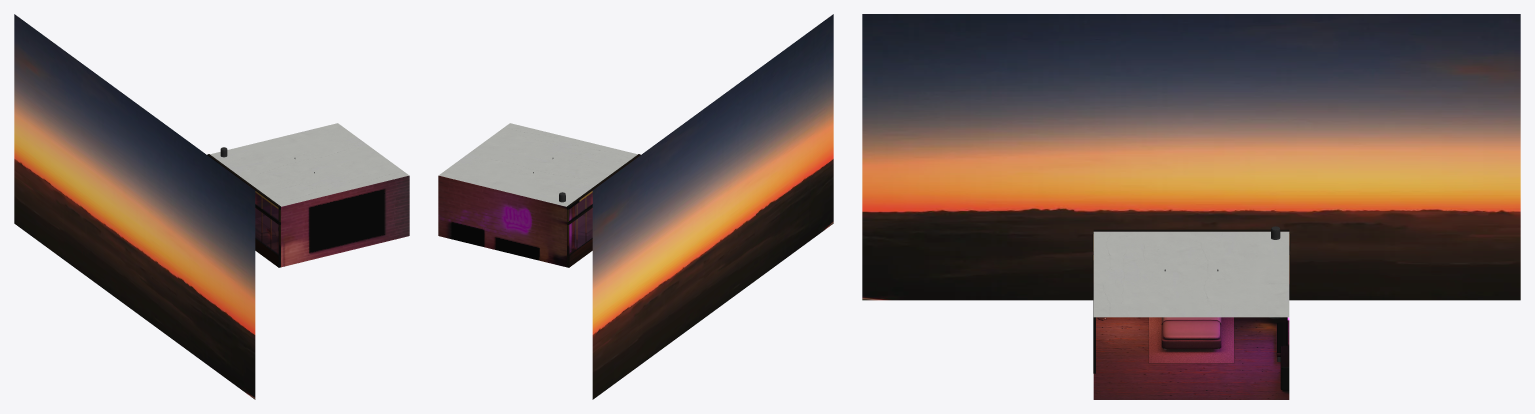
File: room-bedroom-modern.glb
The picture shows the model from 3 angles, left to right: view 1: azimuth 30°, elevation 25°; view 2: azimuth 150°, elevation 25°; view 3: azimuth 270°, elevation 25°; orthographic projection. The views are drawn at different scales.
Parts seen in each view (by area): view 1: Backdrop_Backdrop_0, Modern_Bedroom_Ceiling_0, Modern_Bedroom_Walls_0, Modern_Bedroom_WindowFrame_0, Modern_Bedroom_Window_0; view 2: Backdrop_Backdrop_0, Modern_Bedroom_Ceiling_0, Modern_Bedroom_Walls_0, Modern_Bedroom_WindowFrame_0, Modern_Bedroom_Window_0; view 3: Backdrop_Backdrop_0, Modern_Bedroom_Ceiling_0, Modern_Bedroom_Floor_0, Modern_Bedroom_Carpet_0, Modern_Bedroom_Mattress_0, Modern_Bedroom_WindowFrame_0, Modern_Bedroom_Bed_0.
Part boxes in pixels (x1,y1,x2,y2): Backdrop_Backdrop_0: [14, 14, 255, 399]; Modern_Bedroom_Ceiling_0: [210, 123, 408, 206]; Modern_Bedroom_Walls_0: [281, 175, 409, 267]; Modern_Bedroom_WindowFrame_0: [207, 154, 280, 267]; Modern_Bedroom_Window_0: [255, 192, 278, 254]; Backdrop_Backdrop_0: [592, 14, 833, 399]; Modern_Bedroom_Ceiling_0: [439, 123, 637, 206]; Modern_Bedroom_Walls_0: [438, 175, 566, 267]; Modern_Bedroom_WindowFrame_0: [567, 154, 640, 267]; Modern_Bedroom_Window_0: [569, 192, 592, 254]; Backdrop_Backdrop_0: [862, 14, 1520, 300]; Modern_Bedroom_Ceiling_0: [1093, 231, 1289, 317]; Modern_Bedroom_Floor_0: [1093, 317, 1289, 399]; Modern_Bedroom_Carpet_0: [1149, 317, 1233, 363]; Modern_Bedroom_Mattress_0: [1162, 320, 1220, 339]; Modern_Bedroom_WindowFrame_0: [1092, 229, 1290, 297]; Modern_Bedroom_Bed_0: [1161, 323, 1221, 348].
Bounding box in the file's own units: 2.58 × 2.16 × 4.5.
22 materials, 16 textured.
